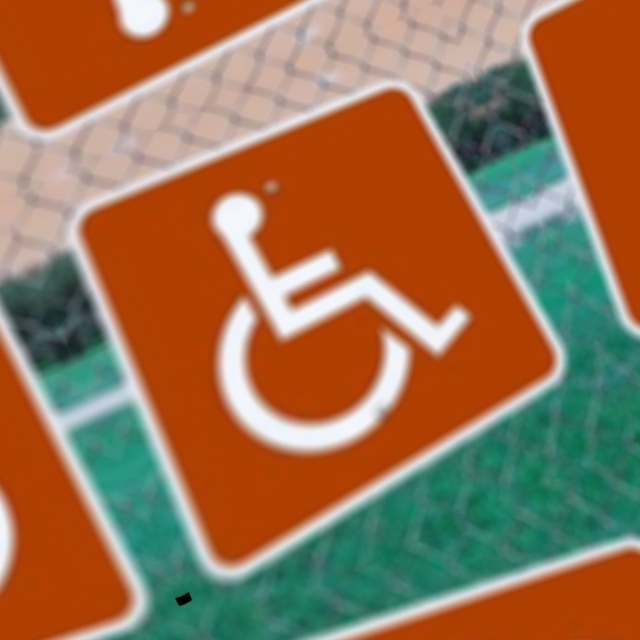ISA: (142, 118, 511, 497), (560, 0, 640, 305), (0, 0, 316, 75), (352, 571, 640, 640), (0, 329, 52, 640)
